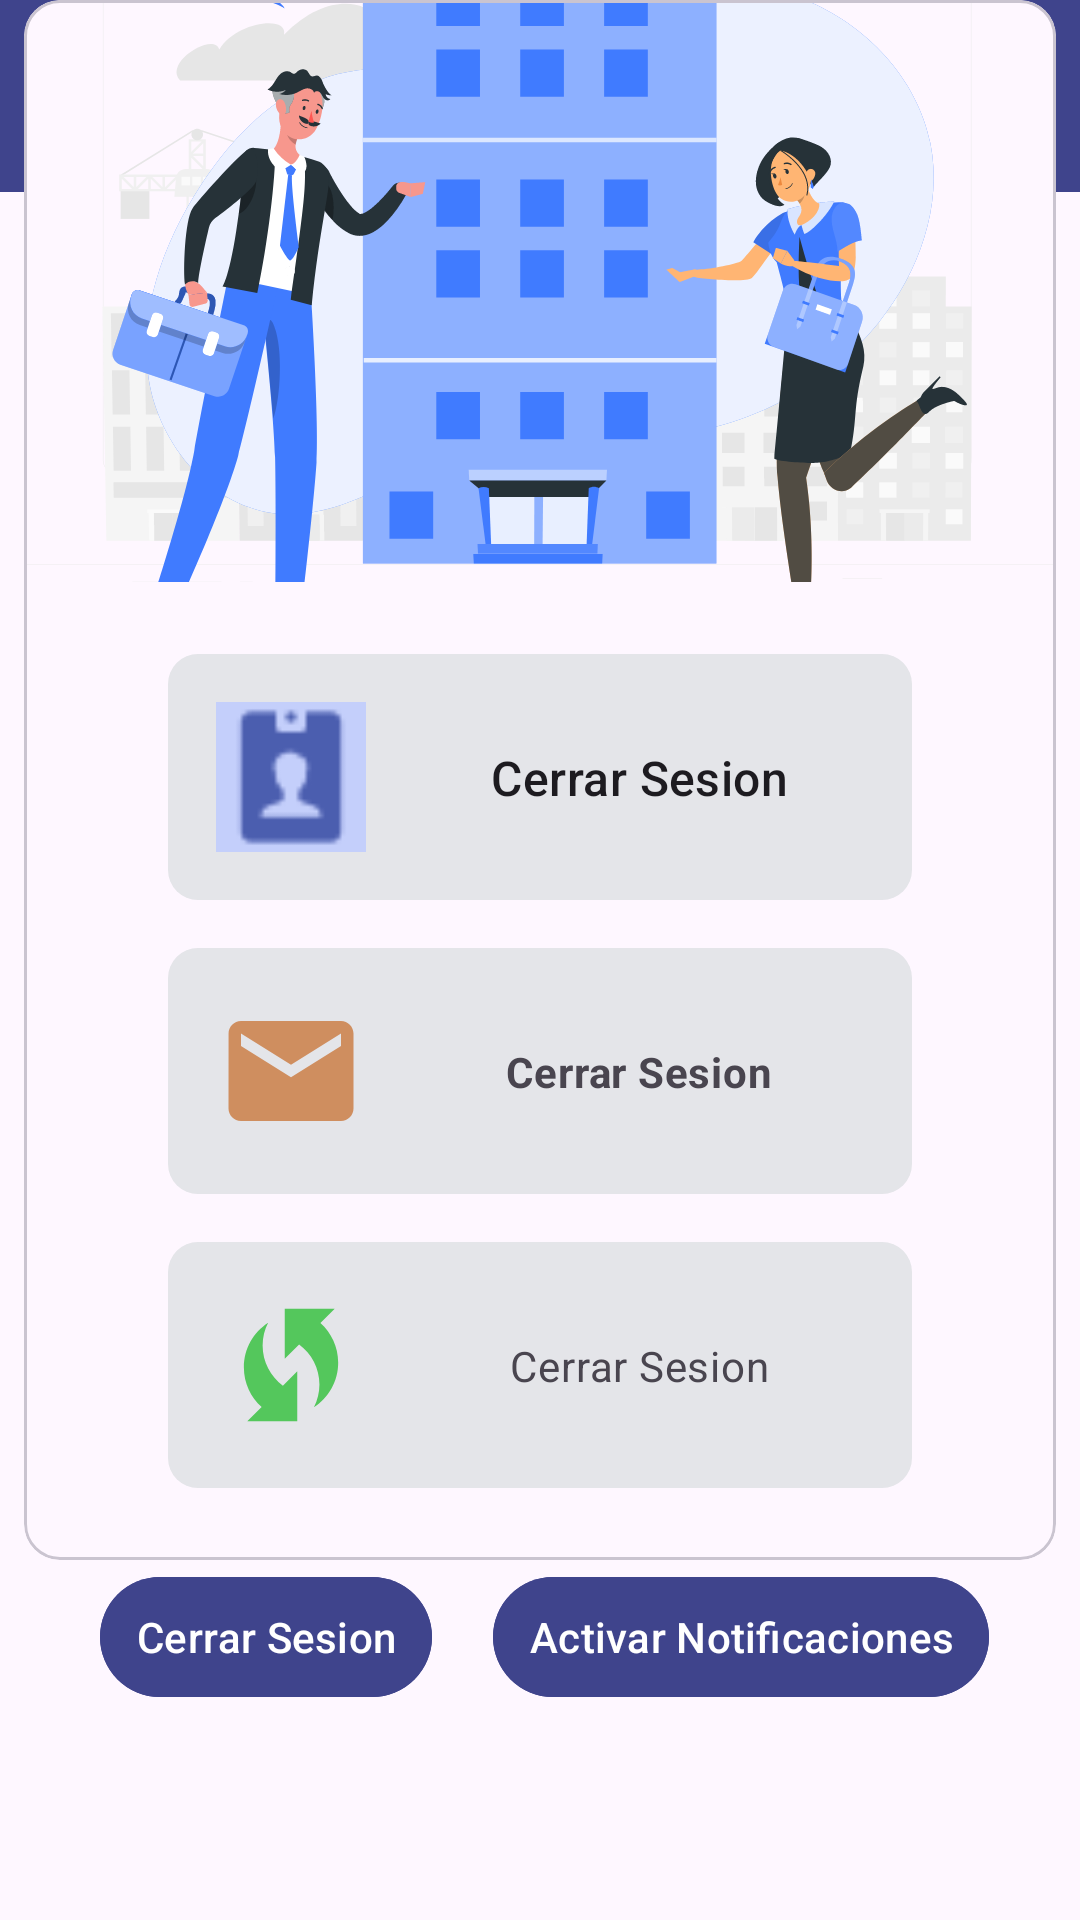

Point at icon controls on the screen. Image size 1080w x 1920h, points as (x=x, y=y).
email: (x=291, y=1071)
nombre: (x=291, y=777)
wifi protected setup: (x=291, y=1365)
